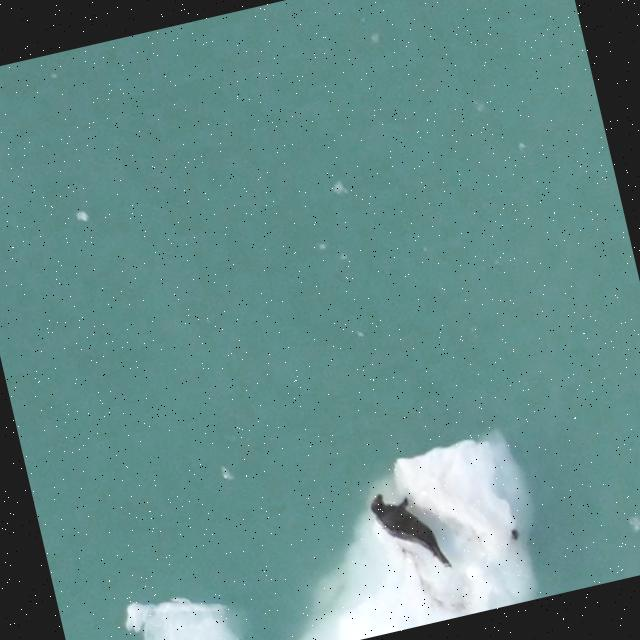seal: (370, 493, 449, 565)
